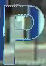Parking: (2, 0, 45, 64)
